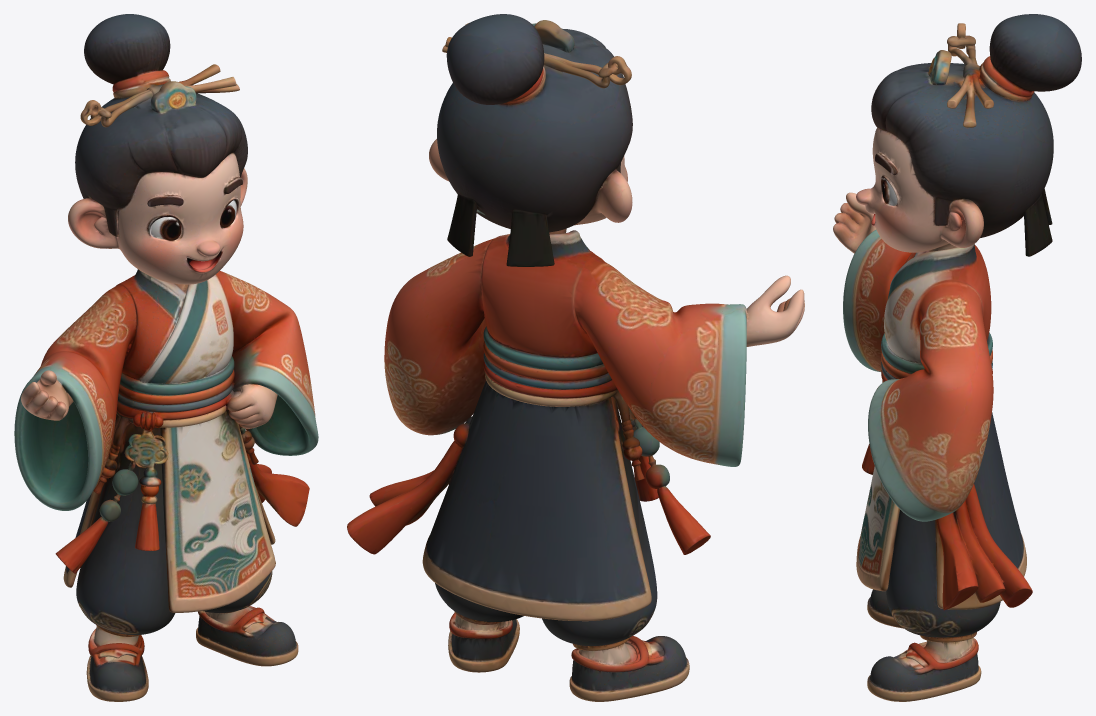
File: character.glb
3 renders of one model, left to right at view 1: azimuth 30°, elevation 25°; view 2: azimuth 150°, elevation 25°; view 3: azimuth 270°, elevation 25°, orthographic. The views are drawn at different scales.
Parts seen in each view (by area): view 1: node_0; view 2: node_0; view 3: node_0.
Boxes of the visible parts, left/top/right/bottom form: node_0: left=14, top=14, right=318, bottom=701; node_0: left=347, top=14, right=804, bottom=701; node_0: left=833, top=14, right=1081, bottom=701.
Size of the model in its own units: 0.6269 by 1.1 by 0.3915.
Materials: 1 (1 with a texture image).
